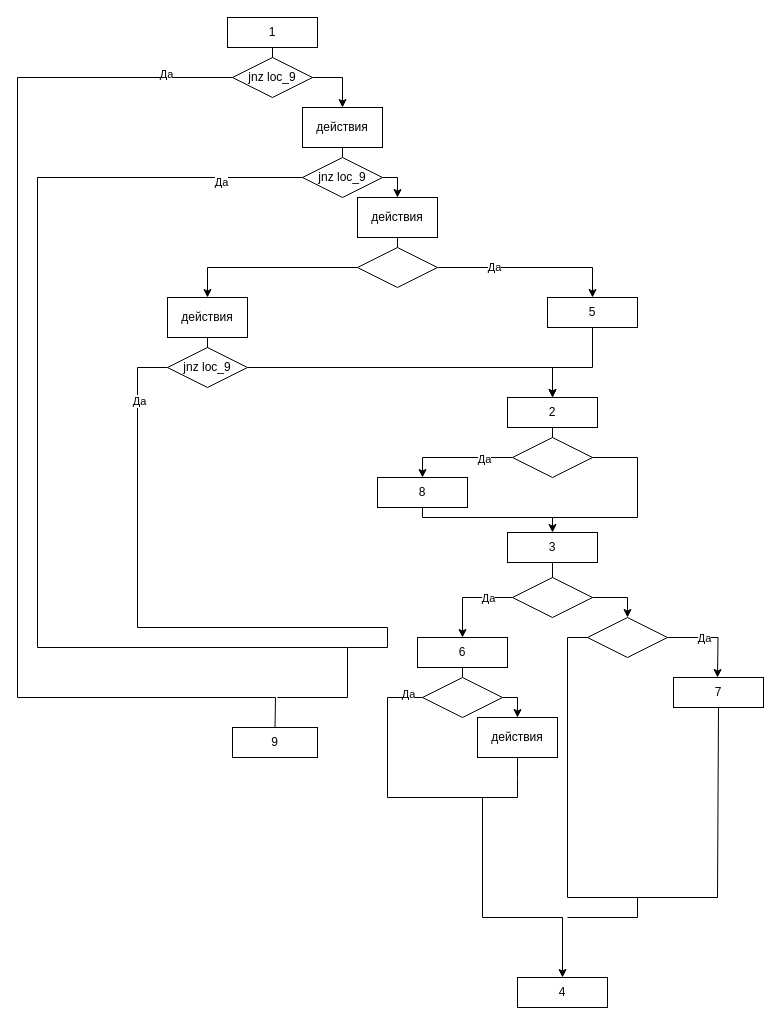
This 781x1025 diagram has some shape labels left out. The centre of each missing label's shape, as x and y in pixels:
jnz loc_6: pixel 552 597
jnz loc_8: pixel 552 457
jo loc_4: pixel 462 697
jo loc_7: pixel 627 637
jz loc_5: pixel 397 267
